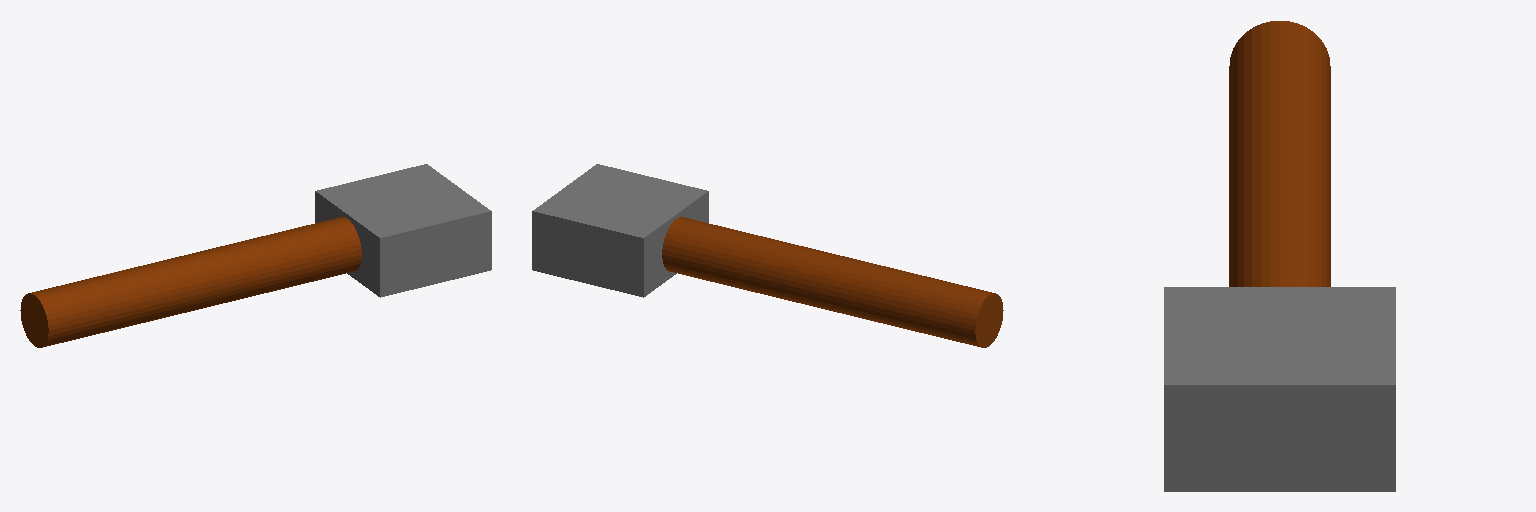
robot.urdf — handle_head:
<?xml version="1.0"?>
<robot name="handle_head">

  <link name="handle_head">
    <!-- Handle -->
    <visual>
              <origin xyz="0 0 0" rpy="0 -1.5707963267948966 0"/>
        <geometry>
          <cylinder length="0.16024602616519693" radius="0.01248540236409112"/>
        </geometry>
        
      <material name="brown">
        <color rgba="0.55 0.27 0.07 1.0"/>
      </material>
    </visual>
    <collision>
              <origin xyz="0 0 0" rpy="0 -1.5707963267948966 0"/>
        <geometry>
          <cylinder length="0.16024602616519693" radius="0.01248540236409112"/>
        </geometry>
        
    </collision>

    <!-- Head -->
    <visual>
              <origin xyz="0.10864867228913838 0 0" rpy="0 0 0"/>
        <geometry>
          <box size="0.05705131841307985 0.057362260922639796 0.029028508666986464"/>
        </geometry>
        
      <material name="gray">
        <color rgba="0.5 0.5 0.5 1.0"/>
      </material>
    </visual>
    <collision>
              <origin xyz="0.10864867228913838 0 0" rpy="0 0 0"/>
        <geometry>
          <box size="0.05705131841307985 0.057362260922639796 0.029028508666986464"/>
        </geometry>
        
    </collision>

    <inertial>
      <origin xyz="0.09253227107092428 0 0" rpy="0 0 0"/>
      <mass value="0.20921371739637326"/>
      <inertia ixx="6.374272114162866e-05" iyy="0.00045521618942557813" izz="0.000491561563507723" ixy="0" ixz="0" iyz="0"/>
    </inertial>
  </link>

</robot>

--- What the picture shows (computed from the rendered views, not written in the file) ---
The picture shows the robot from 3 angles, left to right: view 1: azimuth 30°, elevation 25°; view 2: azimuth 150°, elevation 25°; view 3: azimuth 270°, elevation 25°; orthographic projection.
Model handle_head with 1 links and 0 joints (none), rooted at handle_head, posed all joints at 0.
Links seen in each view (by area): view 1: handle_head; view 2: handle_head; view 3: handle_head.
Boxes of the visible links, x1,y1,x2,y2 form: handle_head: [20, 164, 491, 347]; handle_head: [532, 164, 1003, 347]; handle_head: [1164, 21, 1395, 491].
Size in the robot's own frame: 0.2173 by 0.0574 by 0.029 metres.
Geometry: primitives only (box / cylinder / sphere), no mesh files.
